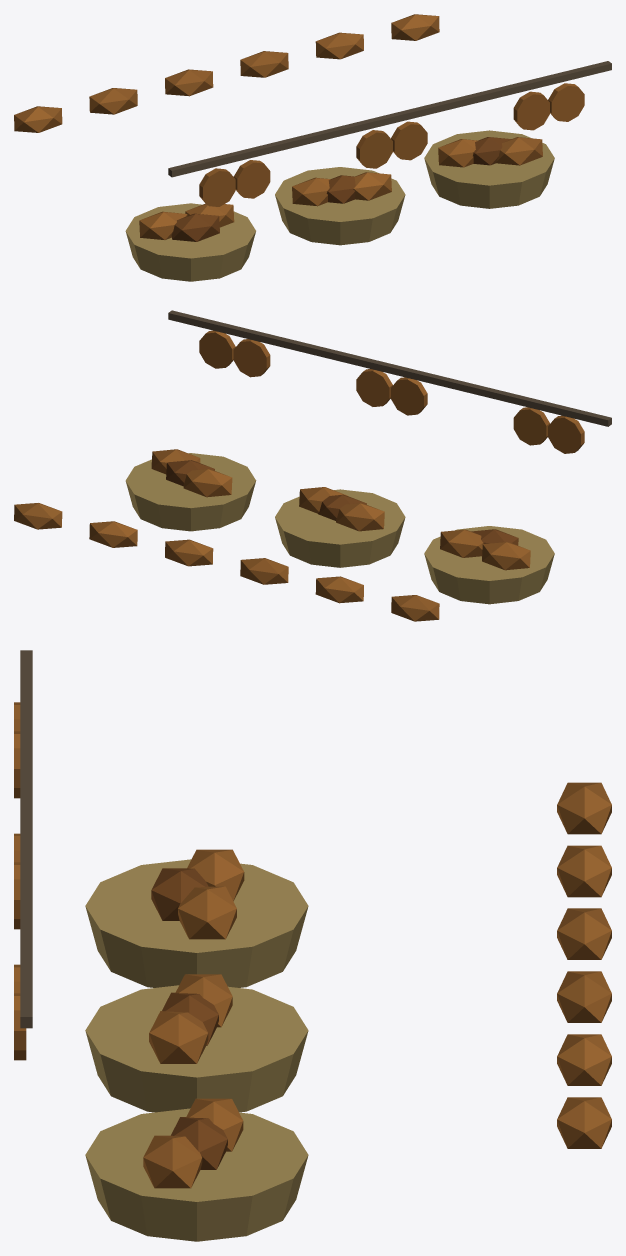
Rendered from goods_baker.glb.
3 views of the same model, one above another, from view 1: azimuth 30°, elevation 25°; view 2: azimuth 150°, elevation 25°; view 3: azimuth 270°, elevation 25° (orthographic). The views are drawn at different scales.
Parts seen in each view (by area): view 1: goods_baker; view 2: goods_baker; view 3: goods_baker.
Boxes of the visible parts, x1,y1,x2,y2 form: goods_baker: (14,14,611,281); goods_baker: (14,310,611,621); goods_baker: (14,650,611,1241).
Size of the model in its own units: 2.8 by 0.86 by 1.93.
